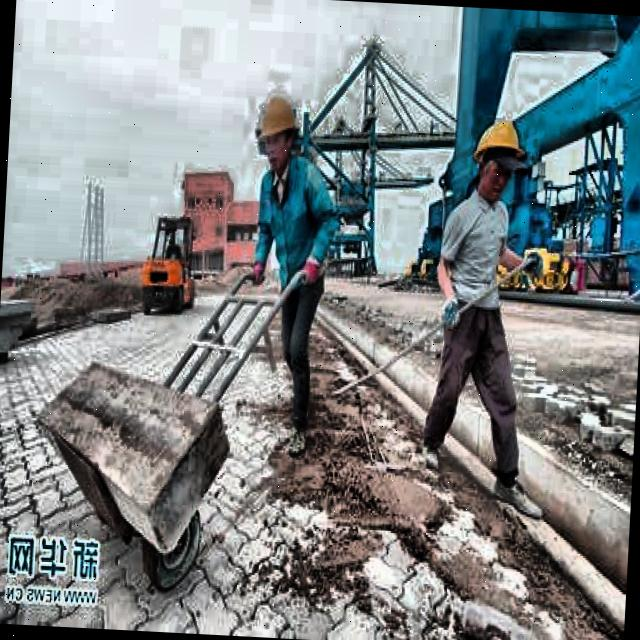helmet: (468, 112, 526, 202), (250, 84, 304, 178)
